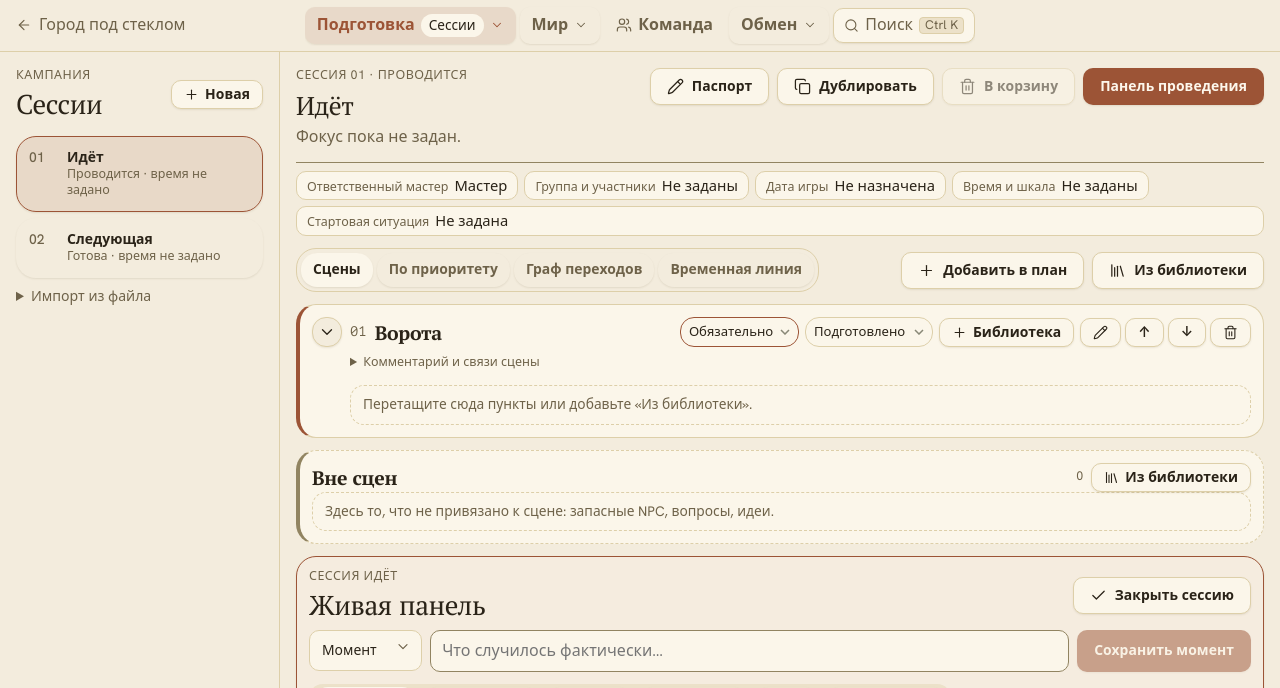
Scenario: session lifecycle › blocks starting a second game and trashing a running one
The width and height of the screenshot is (1280, 688).
Check: the button "В корзину" is disabled, box x1=942 y1=68 x2=1075 y2=105
Step 1. Click the button "02 Следующая Готова · время не задано" → (140, 248), box x1=16 y1=218 x2=263 y2=278
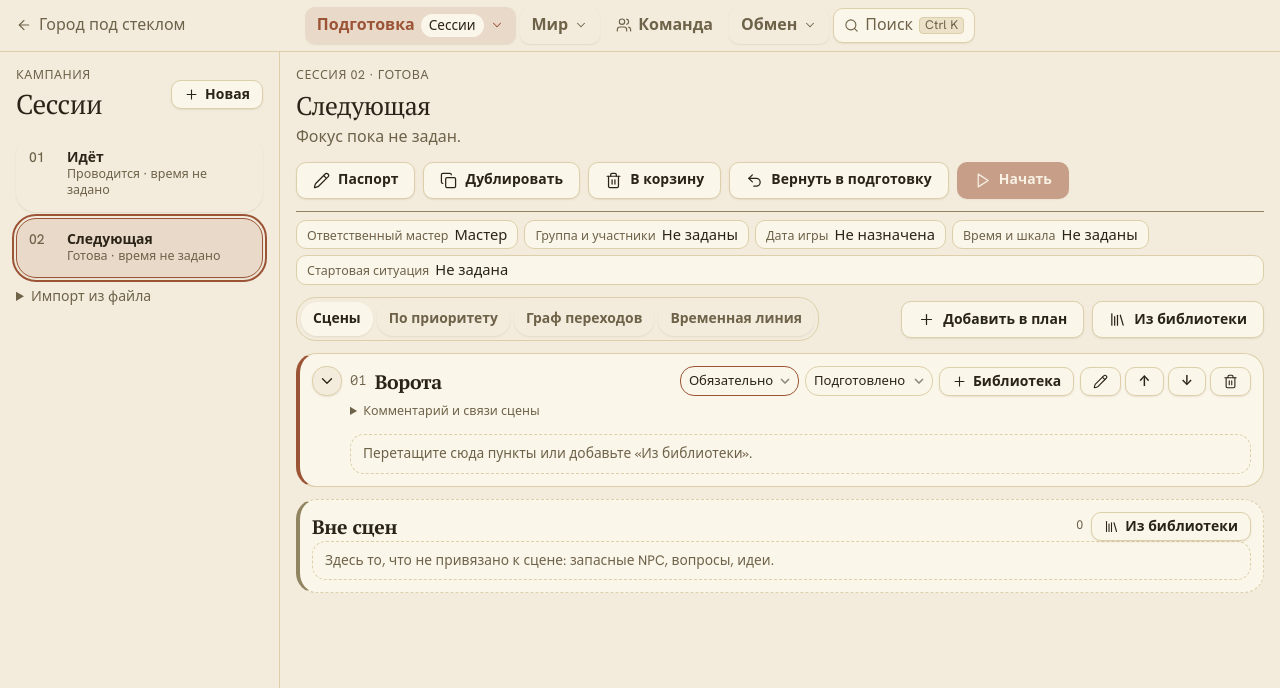
Check: the button "Начать" is disabled, box x1=957 y1=162 x2=1069 y2=198
